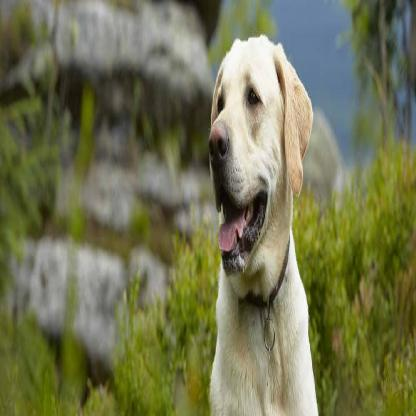dog: (209, 32, 318, 416)
